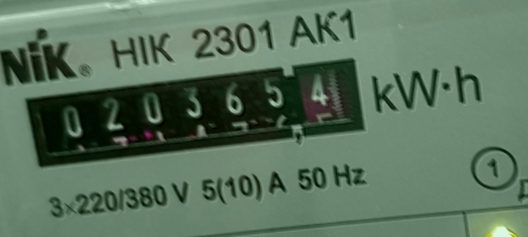0: (63, 102, 86, 138), (144, 88, 165, 125)
2: (101, 94, 126, 131)
3: (184, 82, 205, 118)
4: (310, 70, 331, 106)
5: (264, 74, 287, 108)
6: (224, 78, 246, 115)
screen: (10, 45, 385, 177)
